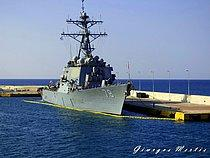MIL_Ship: (38, 4, 134, 114)
